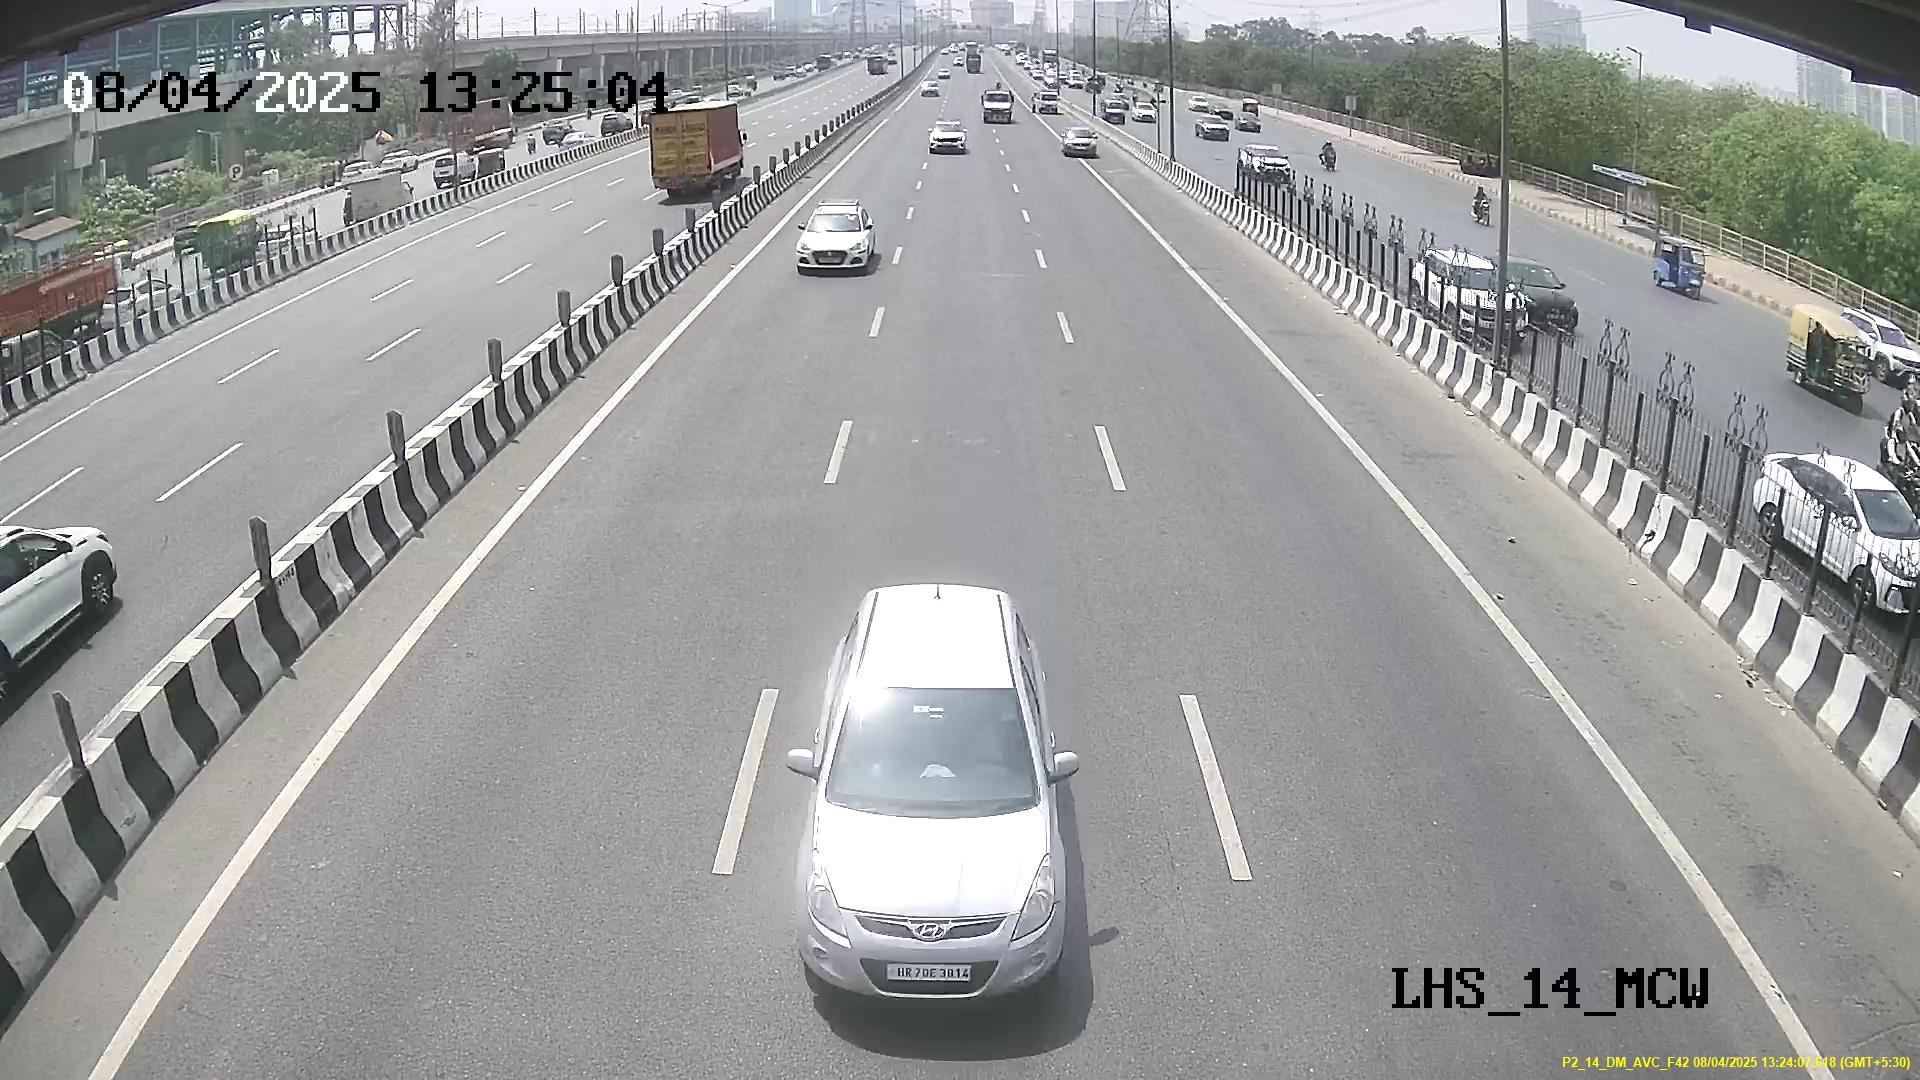car: (794, 657, 1067, 1011), (795, 195, 876, 281)
